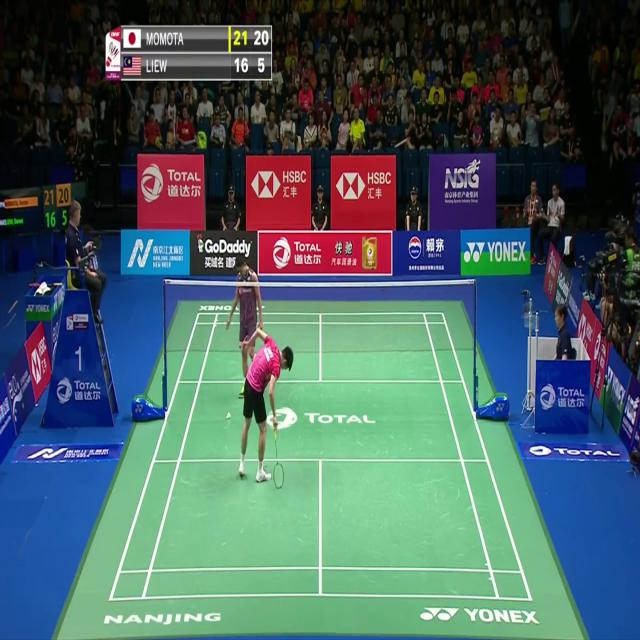Shuttlecock: (225, 409, 231, 421)
